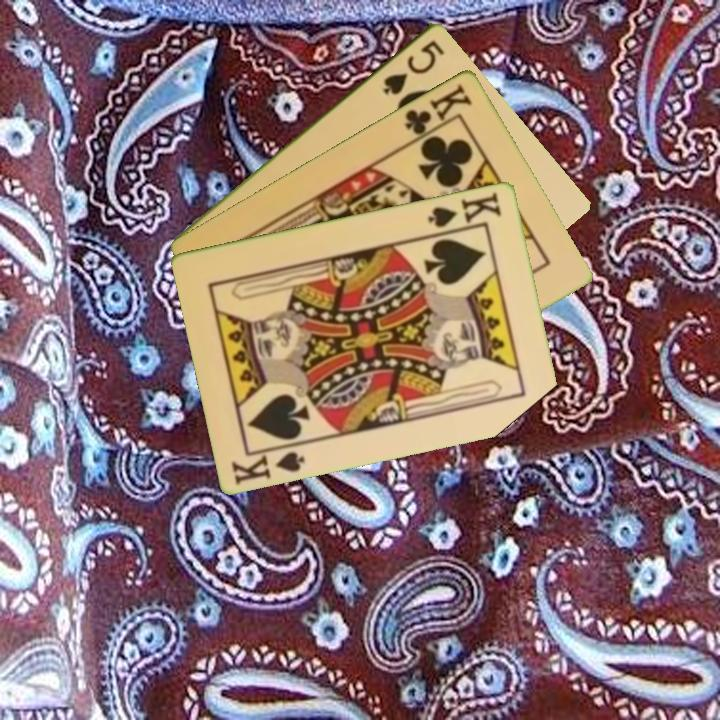5s: (379, 36, 448, 98)
Kc: (401, 80, 475, 145)
Ks: (228, 439, 308, 487), (424, 188, 505, 230)
